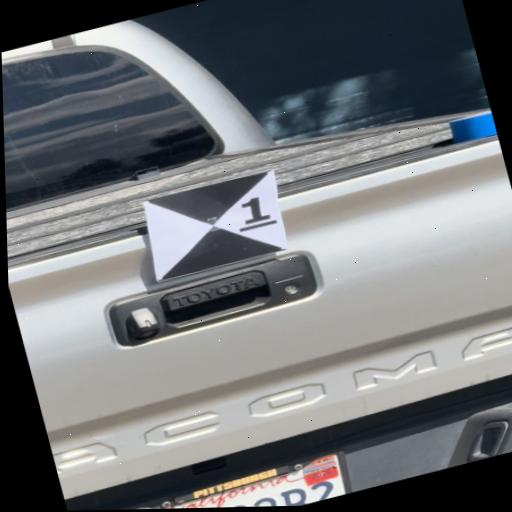target1: (144, 168, 288, 278)
